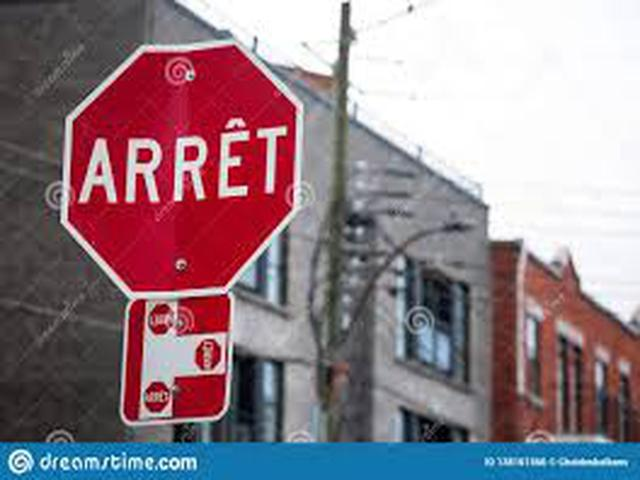stop: (46, 37, 317, 299)
